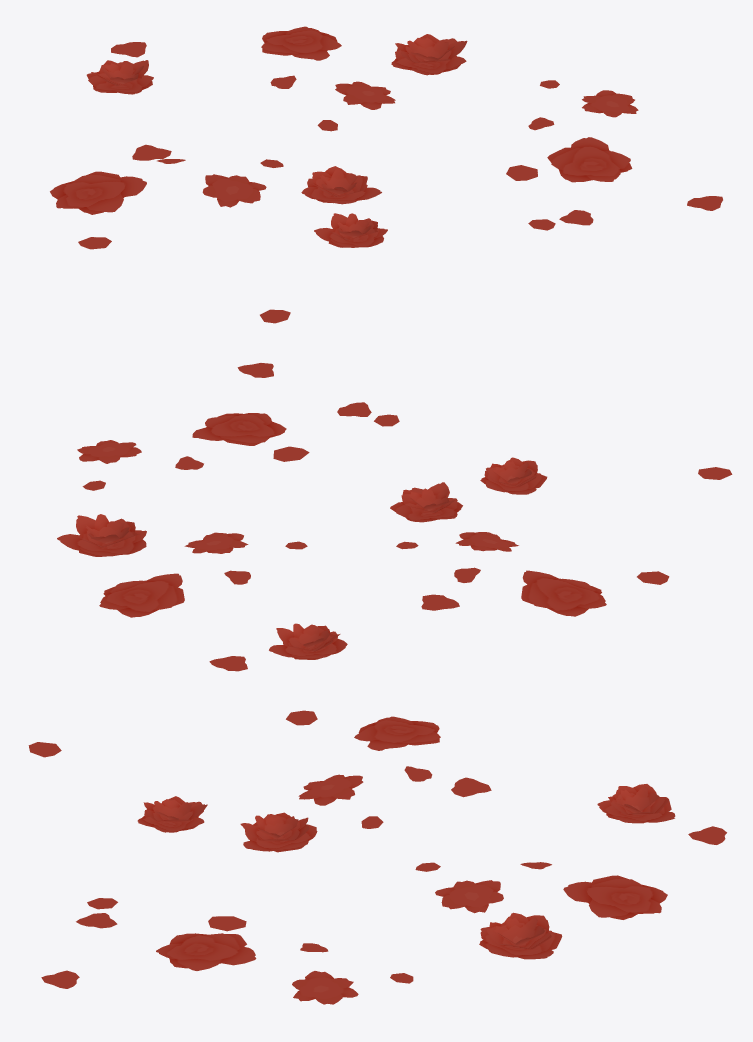
The model's file is SM_Env_Flowers_02.fbx.
3 views of the same model, one above another, from view 1: azimuth 30°, elevation 25°; view 2: azimuth 150°, elevation 25°; view 3: azimuth 270°, elevation 25° (orthographic). The views are drawn at different scales.
Parts seen in each view (by area): view 1: SM_Env_Flowers_02; view 2: SM_Env_Flowers_02; view 3: SM_Env_Flowers_02.
Part boxes in pixels (<box>): SM_Env_Flowers_02: <box>50,26,722,323</box>; SM_Env_Flowers_02: <box>57,363,732,671</box>; SM_Env_Flowers_02: <box>28,710,726,1004</box>.
Size of the model in its own units: 193 by 6.6 by 182.
